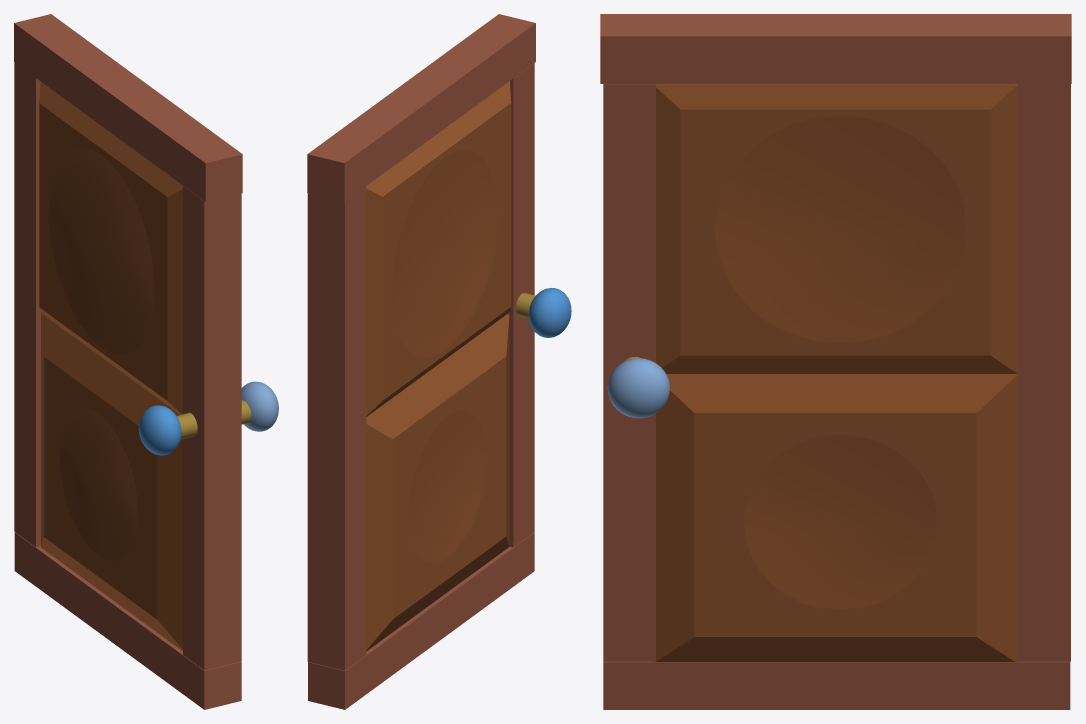
The model's file is Door.fbx.
3 views of the same model, side by side, from view 1: azimuth 30°, elevation 25°; view 2: azimuth 150°, elevation 25°; view 3: azimuth 270°, elevation 25° (orthographic). The views are drawn at different scales.
Visible parts, largest first — view 1: Cube, Sphere, Sphere.001, Cylinder; view 2: Cube, Sphere; view 3: Cube, Sphere.001.
Boxes of the visible parts, left/top/right/bottom form: Cube: left=14, top=14, right=242, bottom=709; Sphere: left=138, top=405, right=181, bottom=455; Sphere.001: left=241, top=381, right=278, bottom=431; Cylinder: left=177, top=400, right=251, bottom=439; Cube: left=307, top=14, right=535, bottom=709; Sphere: left=528, top=288, right=571, bottom=337; Cube: left=600, top=14, right=1071, bottom=709; Sphere.001: left=607, top=358, right=669, bottom=418.
Size of the model in its own units: 83.86 by 333 by 211.
